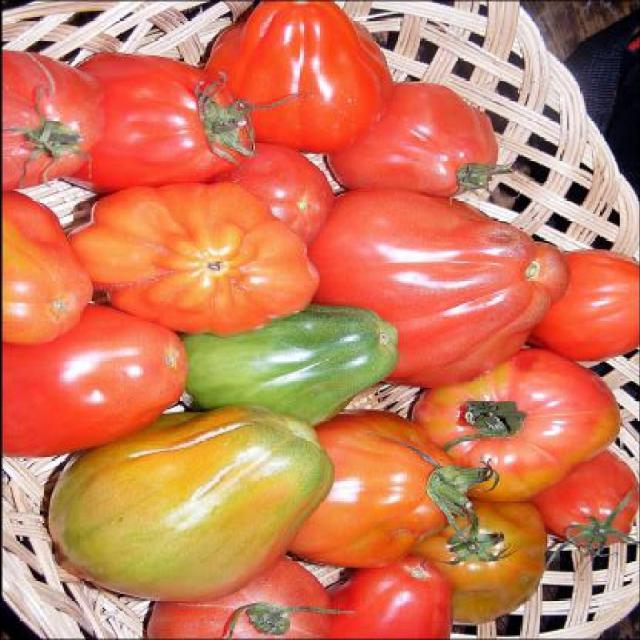Tomato: (2, 0, 640, 638), (7, 309, 188, 460)
